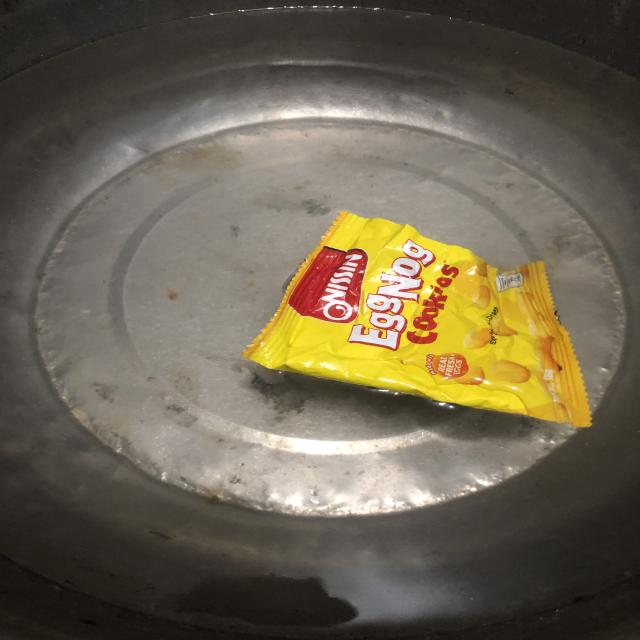Plastic Wrapper: (254, 212, 588, 436)
